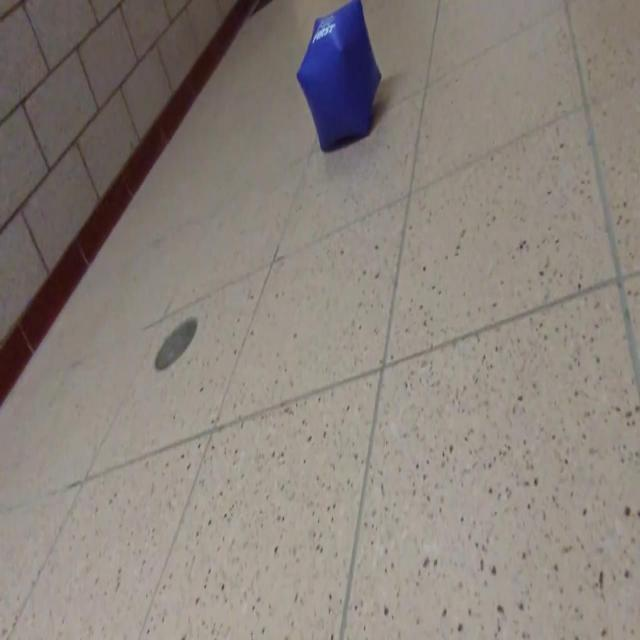frc_cube: (294, 0, 382, 149)
